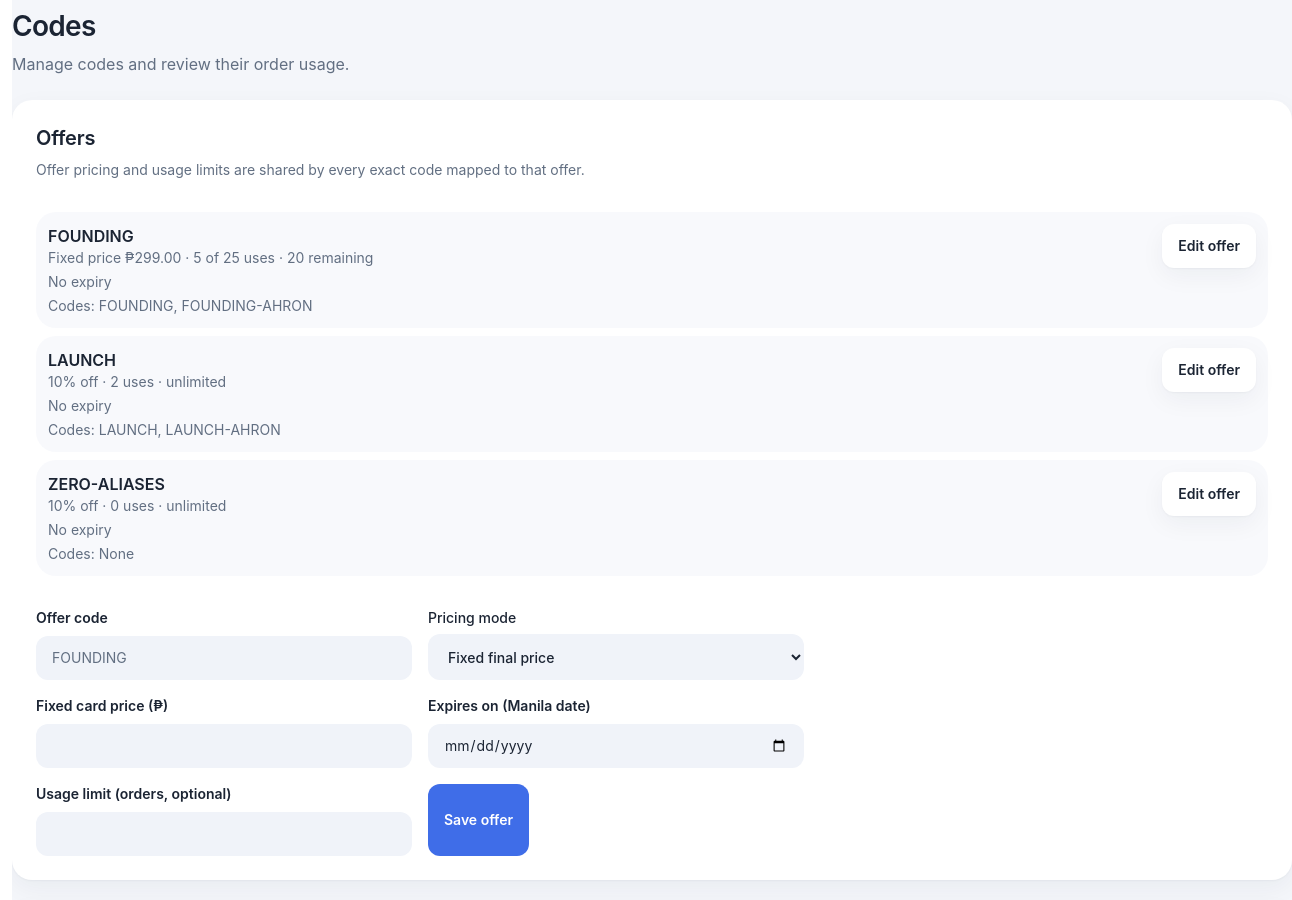
Test: codes manager › shows the safe message when historical usage counting blocks a limit save
The width and height of the screenshot is (1292, 900).
Click the button "Edit offer" in the row of "5 of 25 uses · 20 remaining": (1209, 246) [1162,224,1256,268]
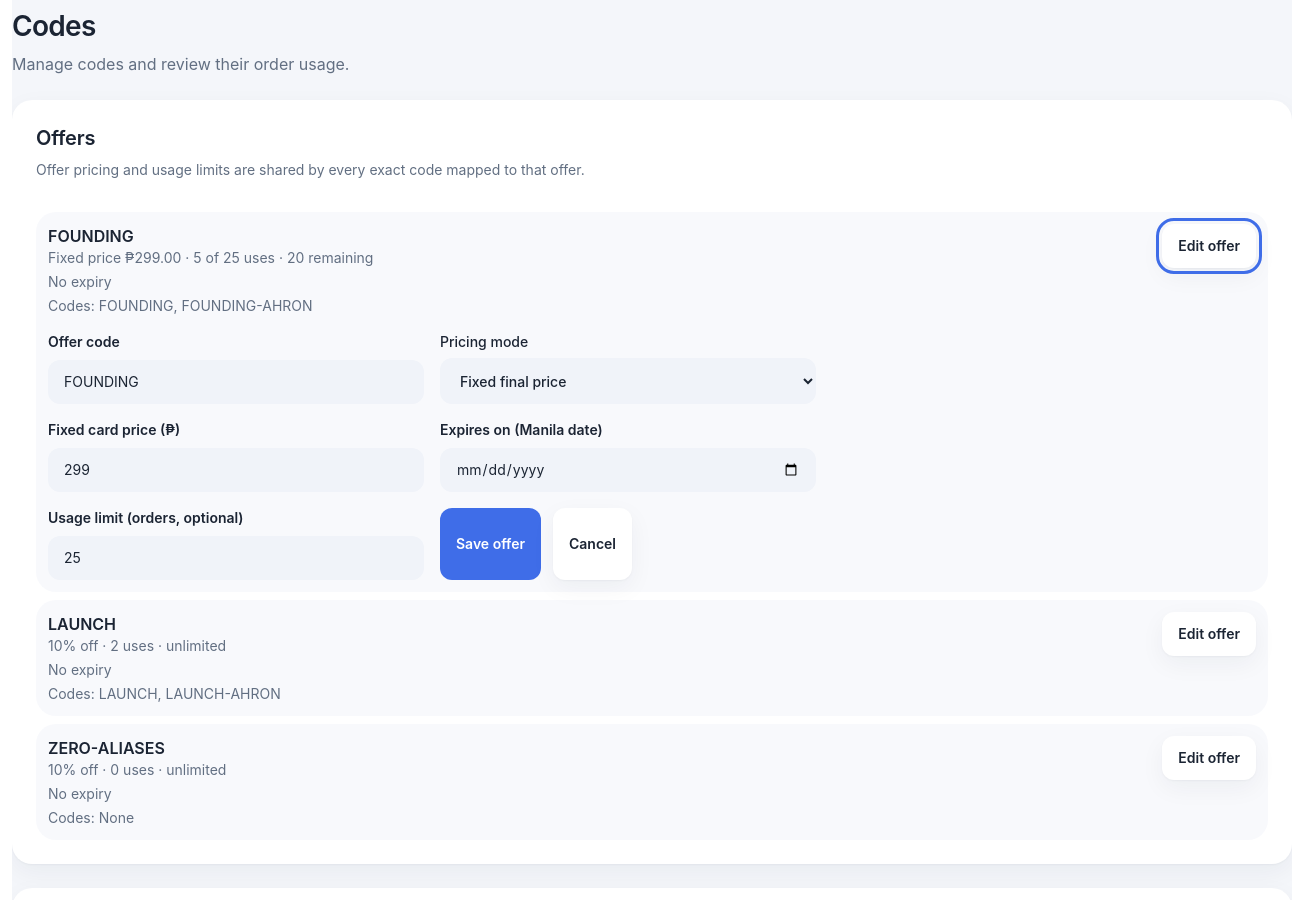
Replace the text in the number field labelled "Usage limit (orders, optional)" with "20": (236, 558) [48,536,424,580]
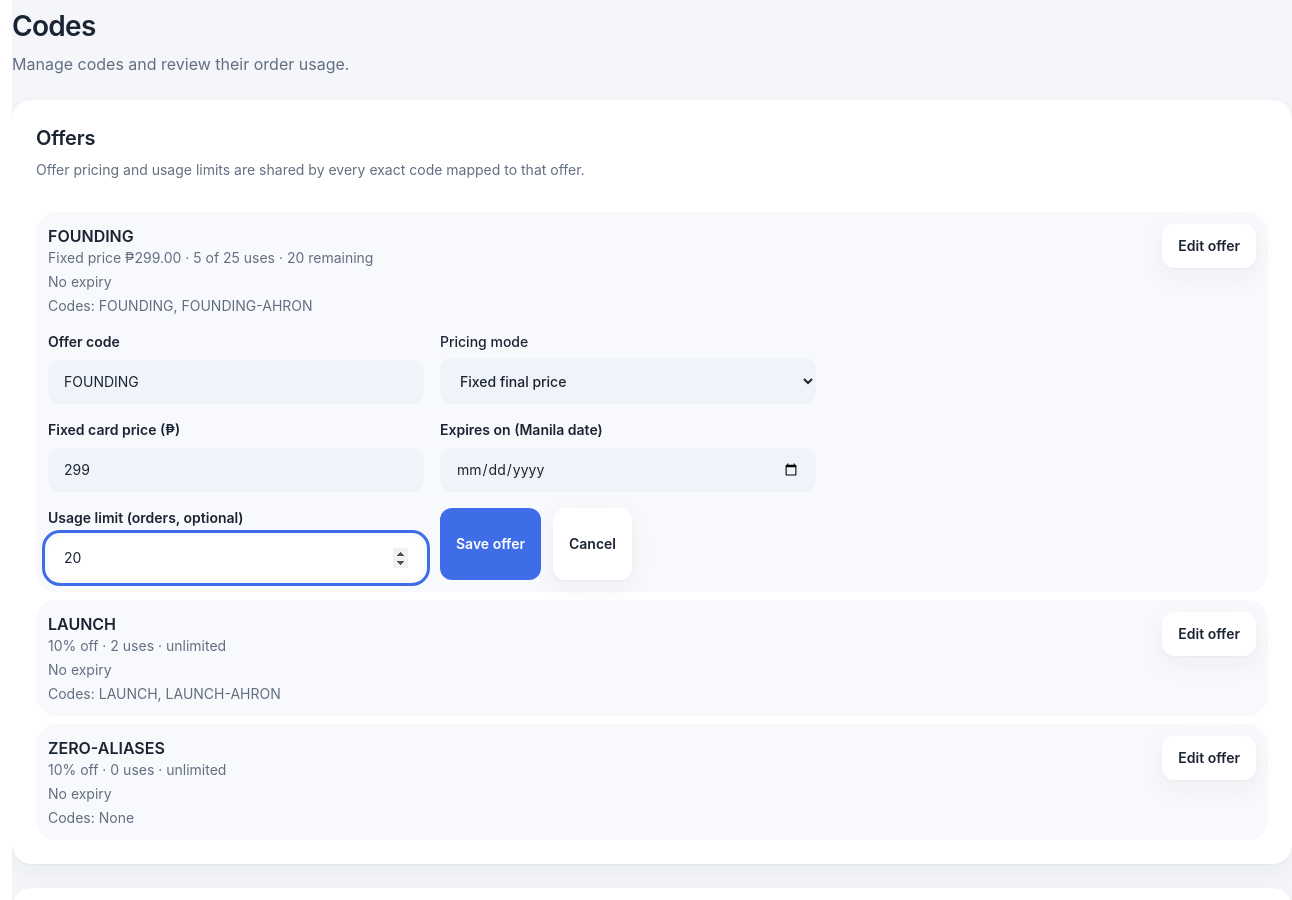
Click the button "Save offer": (490, 544) [440,508,541,580]
(page scrolled)
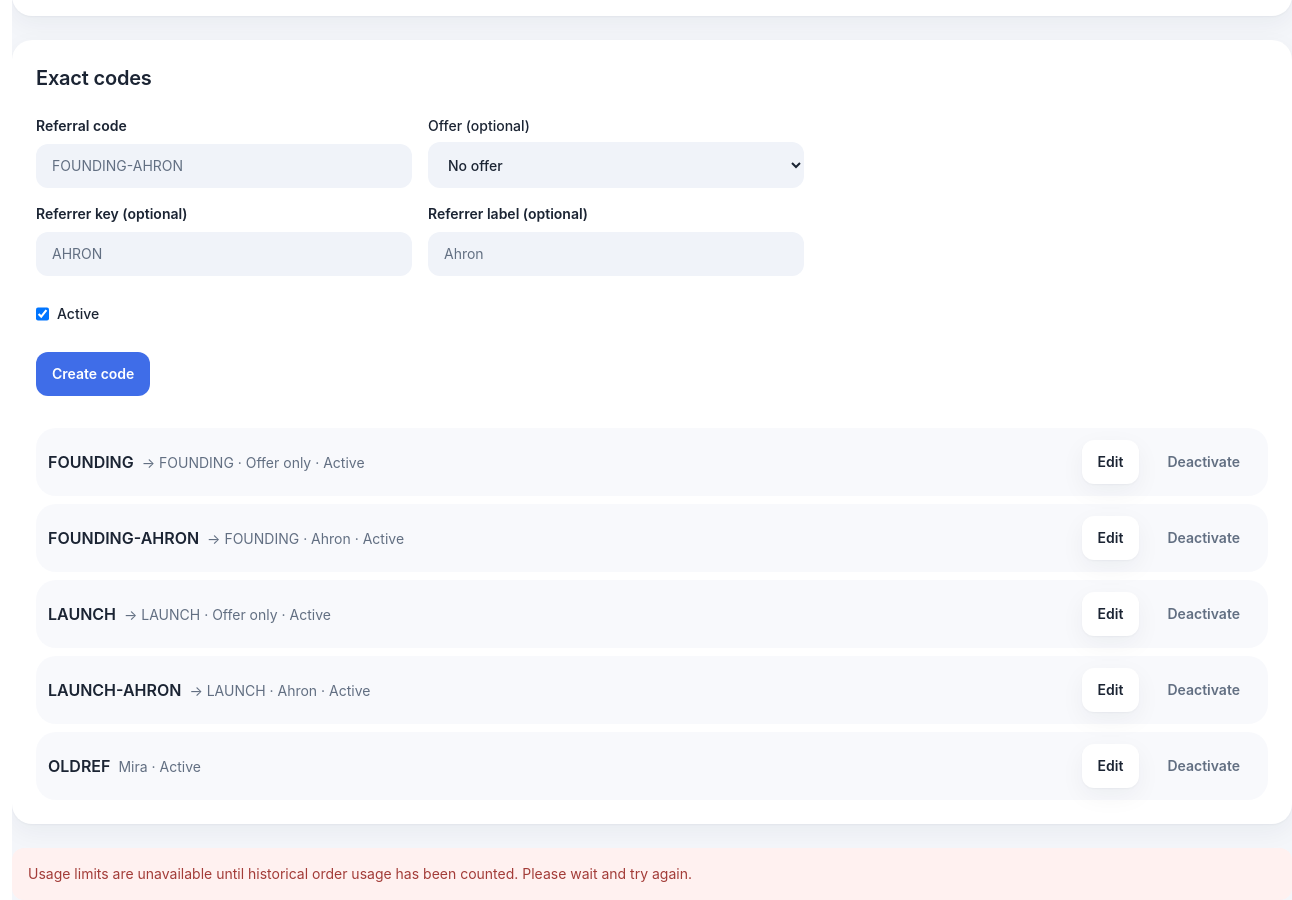
Expected: the text "Usage limits are unavailable until historical order usage has been counted. Please wait and try again." is shown, [28,865,692,882]
